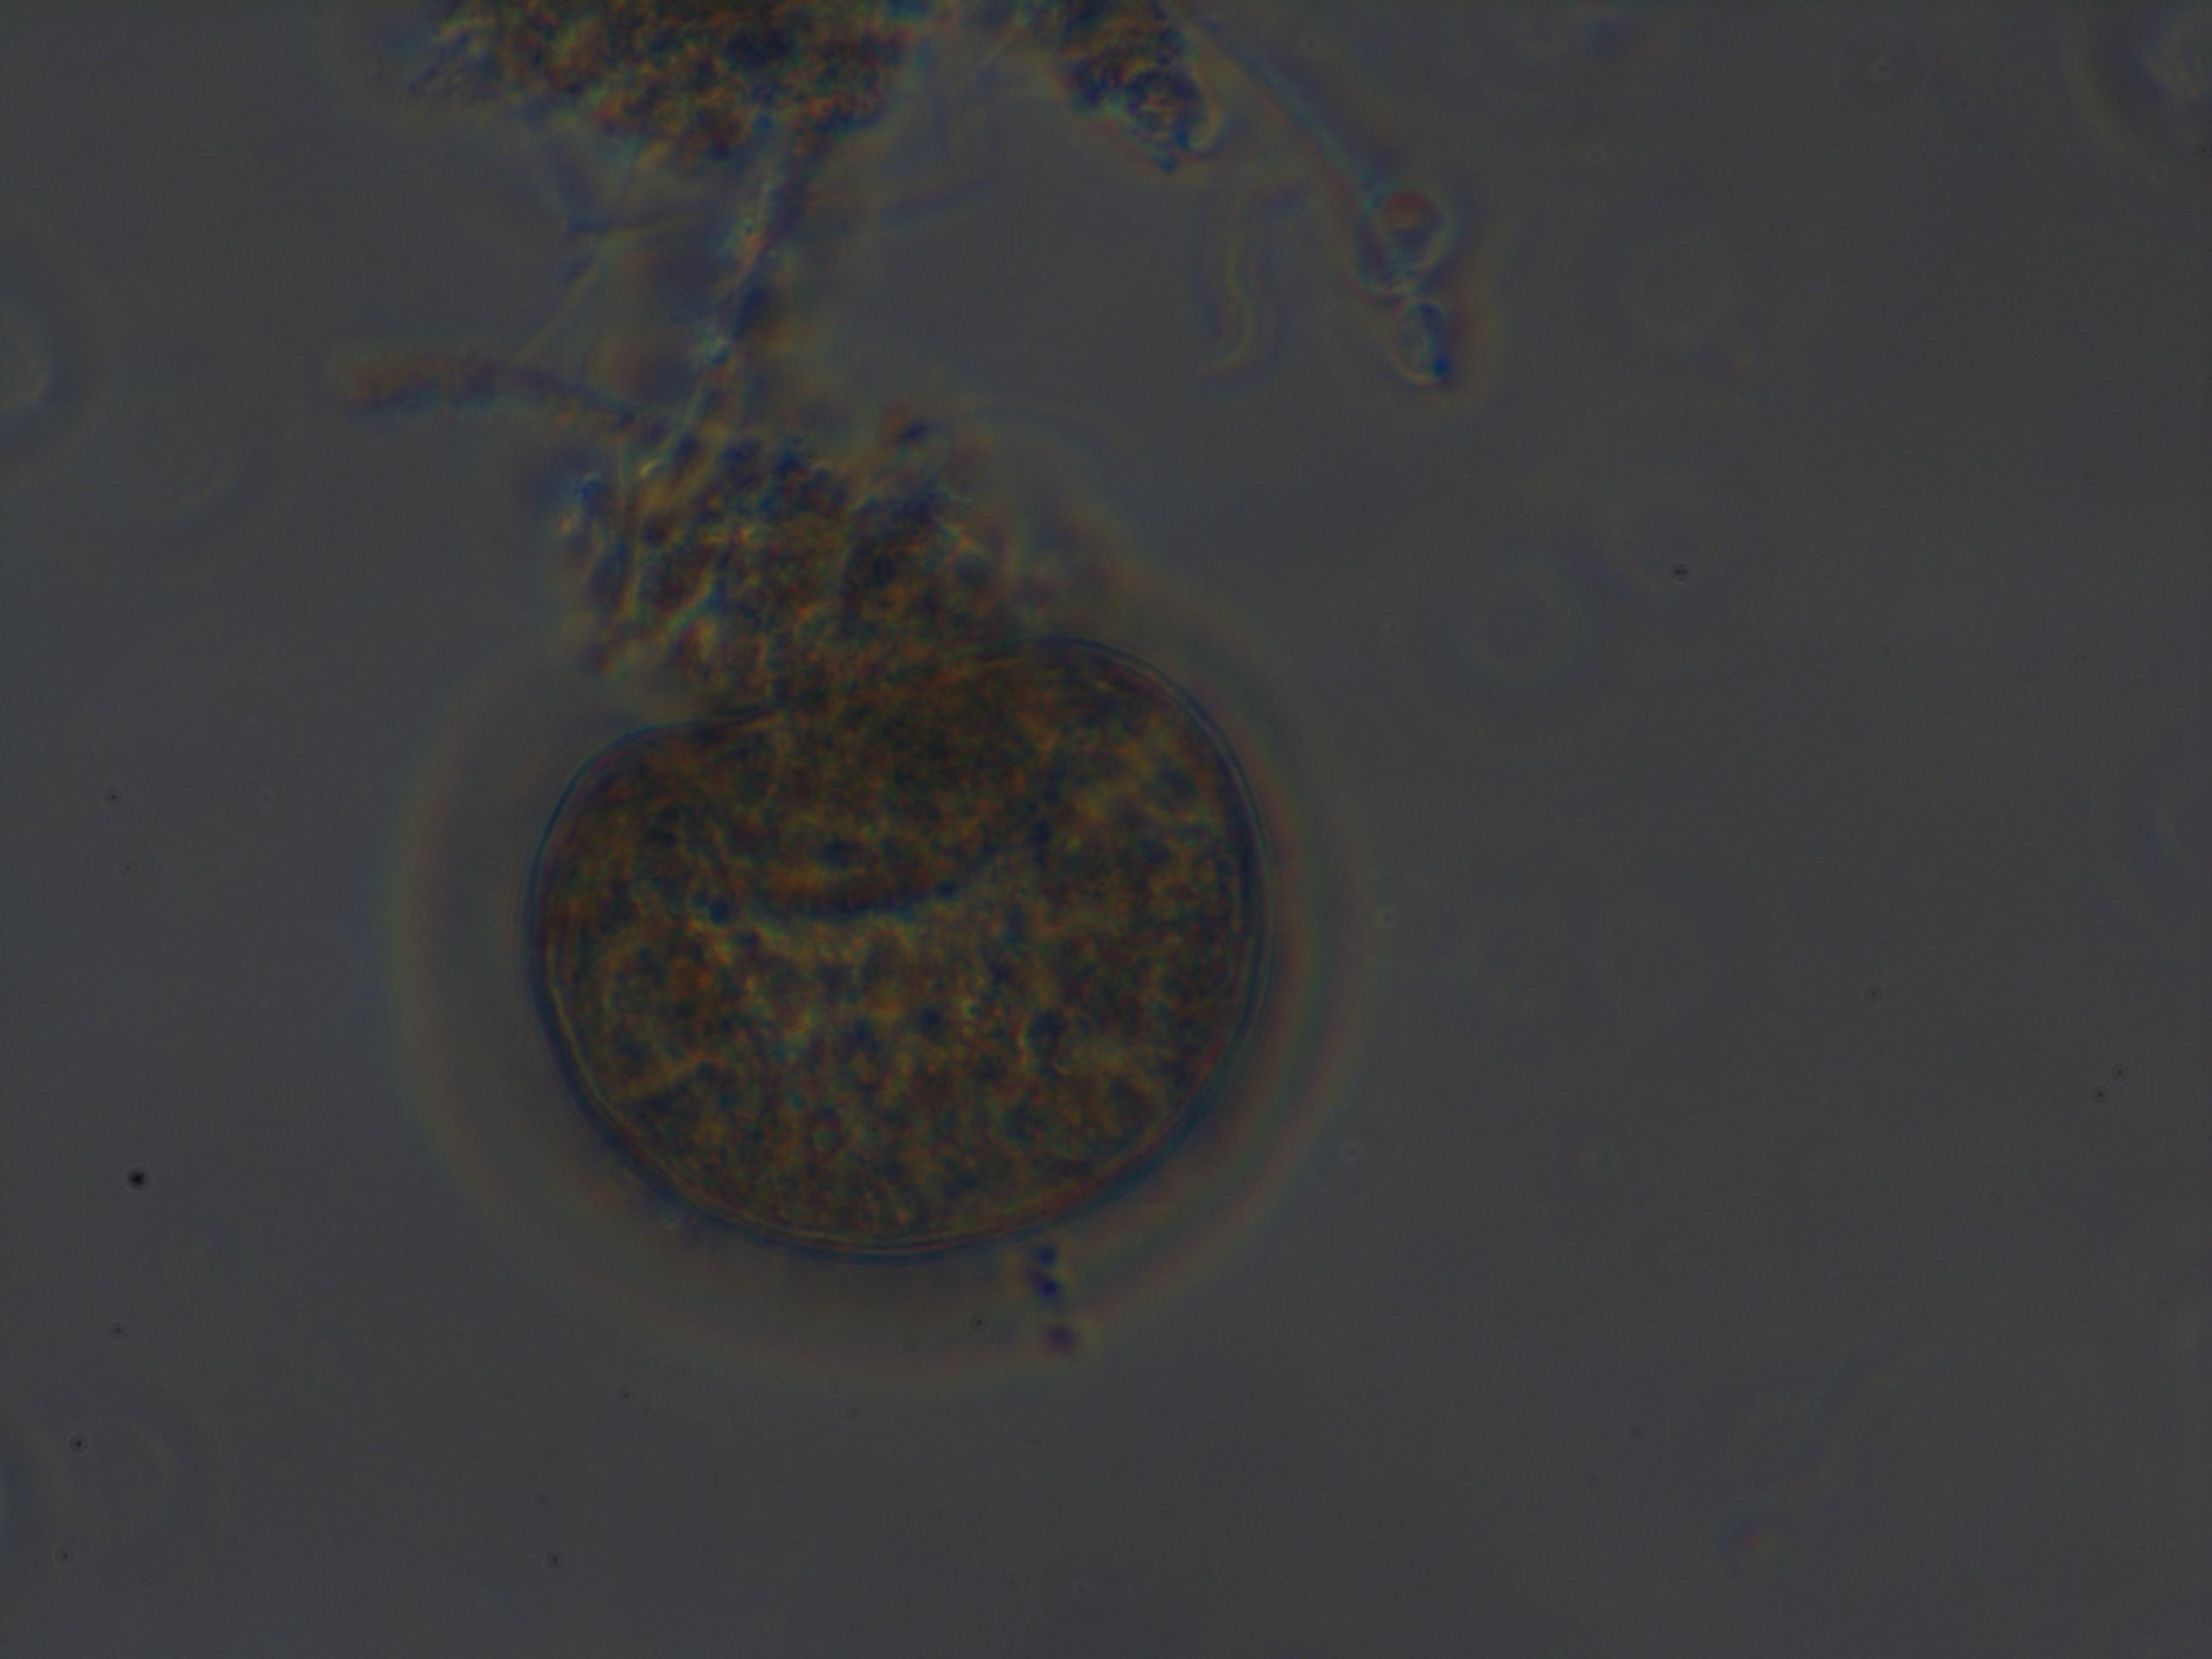filament: (1188, 5, 1477, 385), (665, 155, 812, 436)
protozoa: (369, 573, 1366, 1398)
